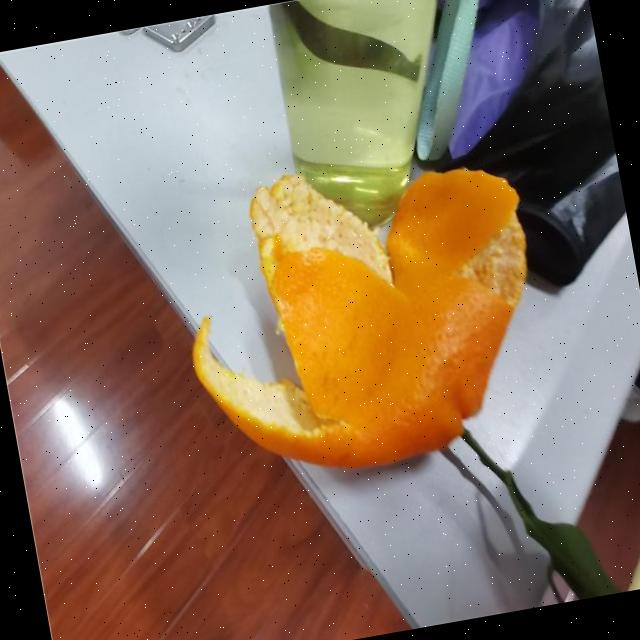orange-peel: (162, 136, 562, 496)
